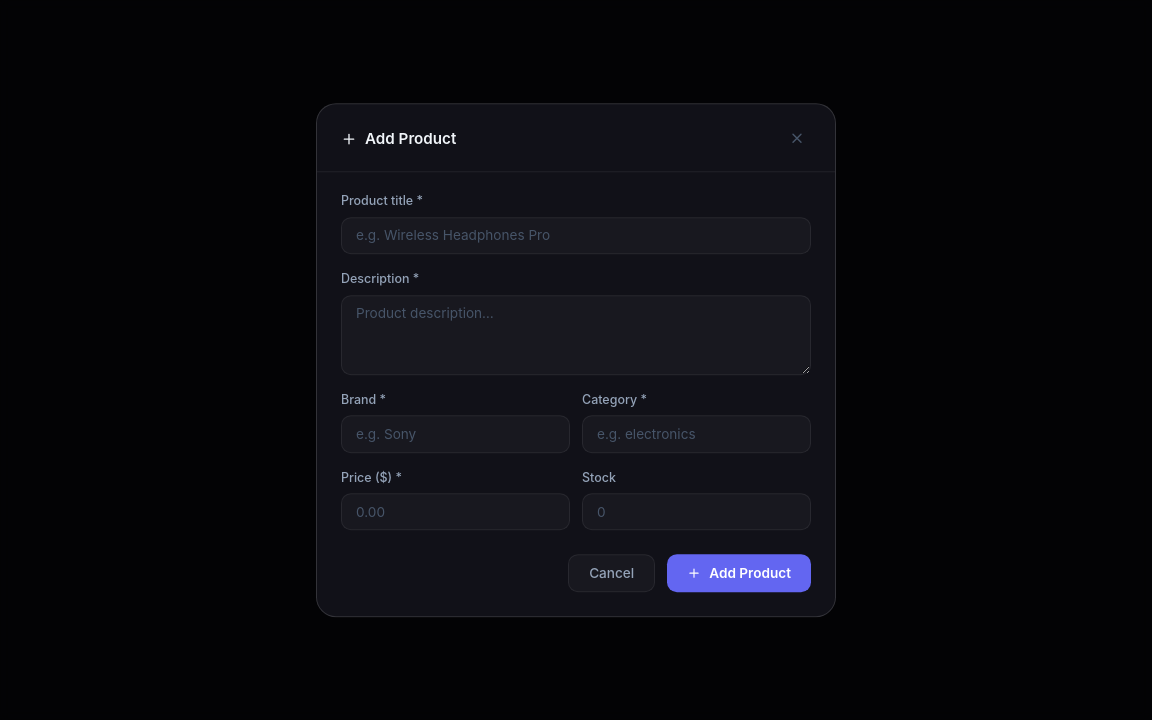
Test: AddProductModal › shows error when title is too short
This screenshot has width=1152, height=720.
Type "ab" into the field labelled "Product title *" at (576, 236), box [341, 217, 811, 254]
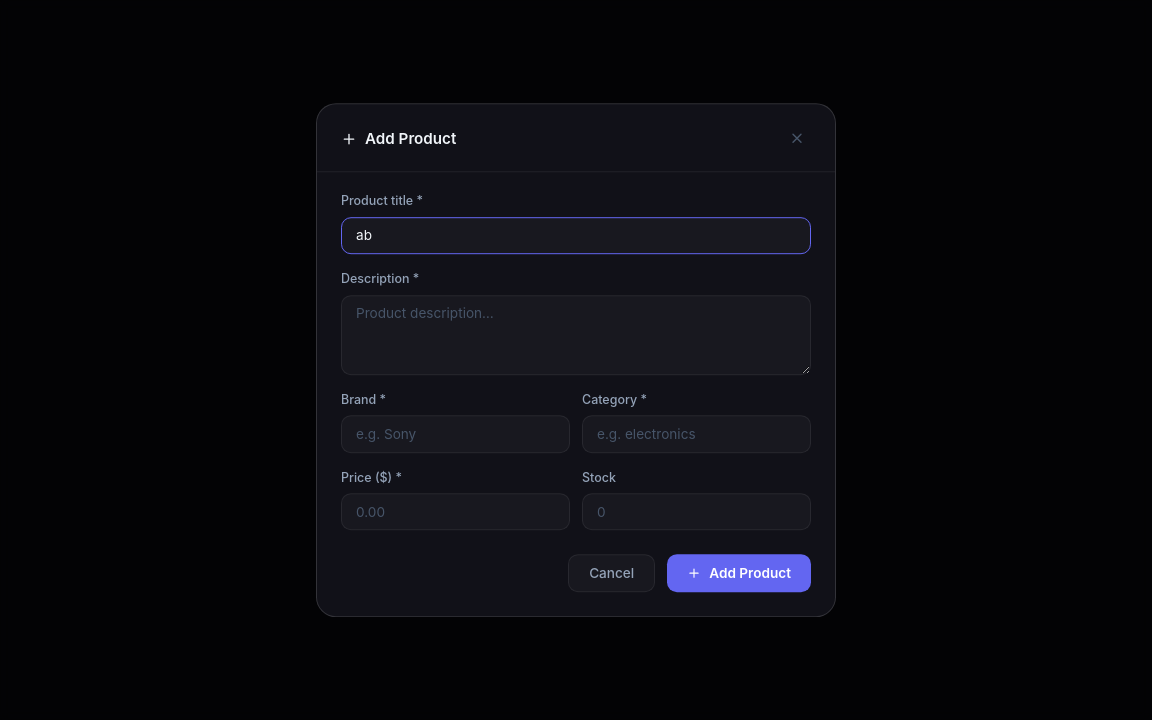
Press Tab
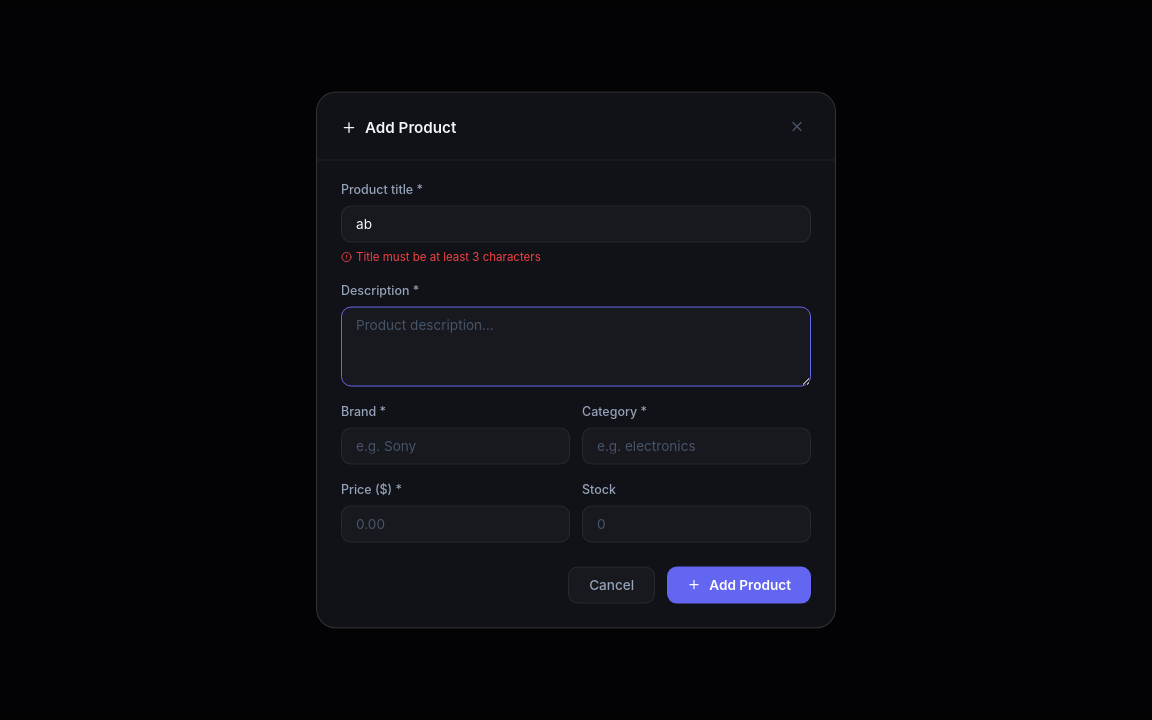
Check: the text "Title must be at least 3 characters" is shown, box [341, 250, 541, 264]
